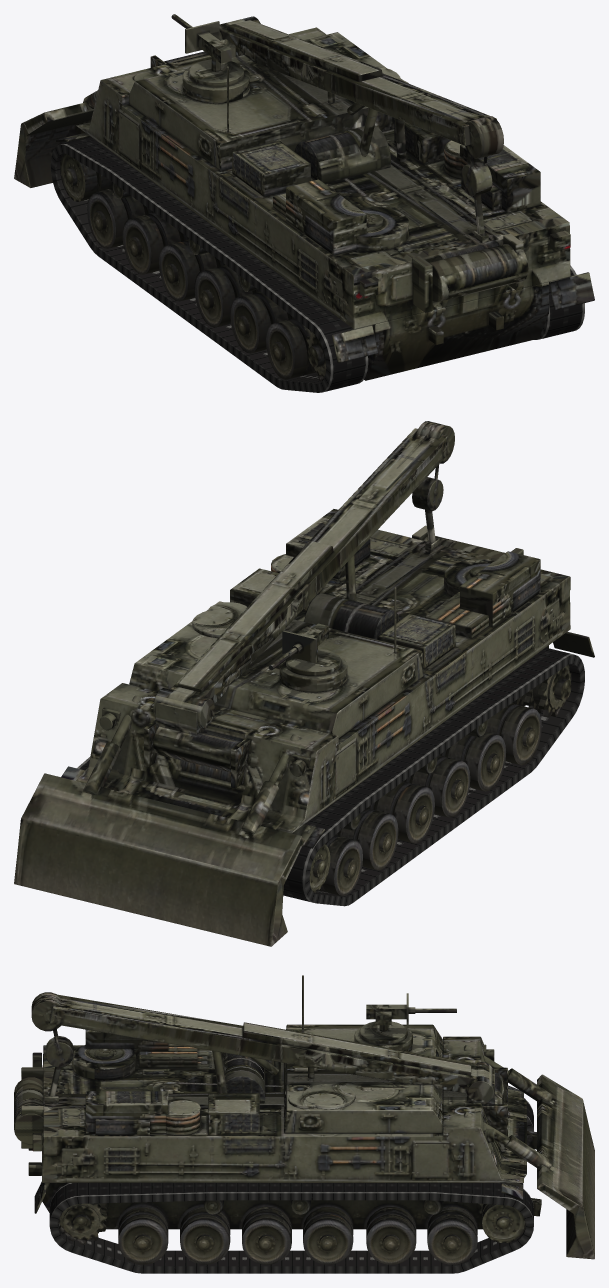
3 renders of one model, top to bottom at view 1: azimuth 30°, elevation 25°; view 2: azimuth 150°, elevation 25°; view 3: azimuth 270°, elevation 25°, orthographic. The views are drawn at different scales.
Parts seen in each view (by area): view 1: Hull, TrackL, WheelL1, WheelL4, WheelL5, WheelL3, WheelL0, WheelL2, MG, IdlerL, TrackR, SprocketL; view 2: Hull, TrackL, WheelL2, WheelL5, WheelL4, WheelL3, WheelL1, WheelL0, SprocketL, MG, IdlerL; view 3: Hull, TrackR, WheelR2, WheelR1, WheelR5, WheelR3, WheelR0, WheelR4, SprocketR, IdlerR, MG.
Part boxes in pixels (bbox=[...]): Hull: bbox=[14, 16, 594, 380]; TrackL: bbox=[50, 137, 368, 392]; WheelL1: bbox=[122, 212, 180, 274]; WheelL4: bbox=[230, 291, 288, 353]; WheelL5: bbox=[266, 318, 316, 379]; WheelL3: bbox=[194, 265, 252, 327]; WheelL0: bbox=[87, 188, 145, 248]; WheelL2: bbox=[159, 240, 217, 301]; MG: bbox=[171, 14, 235, 71]; IdlerL: bbox=[60, 153, 111, 201]; TrackR: bbox=[534, 265, 584, 339]; SprocketL: bbox=[306, 330, 326, 381]; Hull: bbox=[14, 421, 594, 946]; TrackL: bbox=[283, 647, 584, 906]; WheelL2: bbox=[376, 781, 434, 843]; WheelL5: bbox=[485, 703, 541, 765]; WheelL4: bbox=[448, 732, 505, 791]; WheelL3: bbox=[412, 755, 470, 817]; WheelL1: bbox=[340, 808, 398, 870]; WheelL0: bbox=[319, 835, 362, 896]; SprocketL: bbox=[523, 665, 571, 716]; MG: bbox=[268, 623, 328, 670]; IdlerL: bbox=[309, 844, 330, 892]; Hull: bbox=[14, 975, 594, 1259]; TrackR: bbox=[49, 1183, 533, 1273]; WheelR2: bbox=[303, 1207, 353, 1264]; WheelR1: bbox=[366, 1207, 416, 1264]; WheelR5: bbox=[118, 1207, 168, 1264]; WheelR3: bbox=[242, 1207, 291, 1264]; WheelR0: bbox=[427, 1207, 477, 1264]; WheelR4: bbox=[180, 1207, 230, 1264]; SprocketR: bbox=[58, 1203, 107, 1244]; IdlerR: bbox=[482, 1204, 525, 1242]; MG: bbox=[366, 993, 456, 1031].
Bounding box in the file's own units: 3.86 × 3.86 × 8.7.
Materials: 2 (2 with a texture image).
